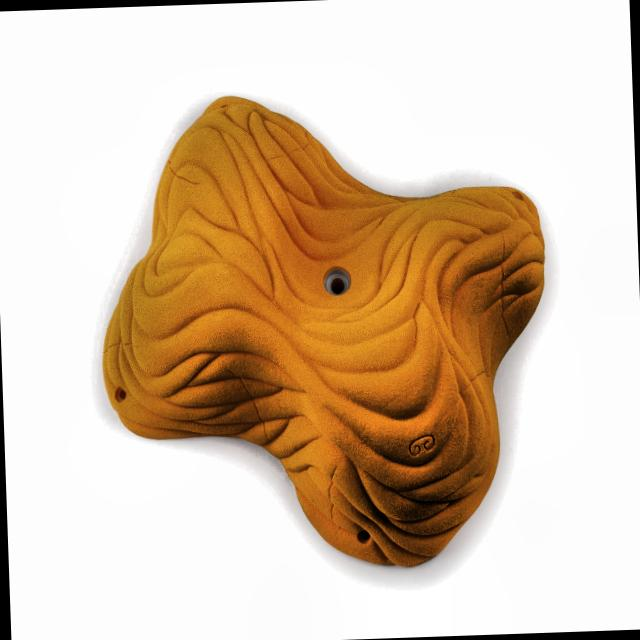Hold: (82, 86, 556, 576)
